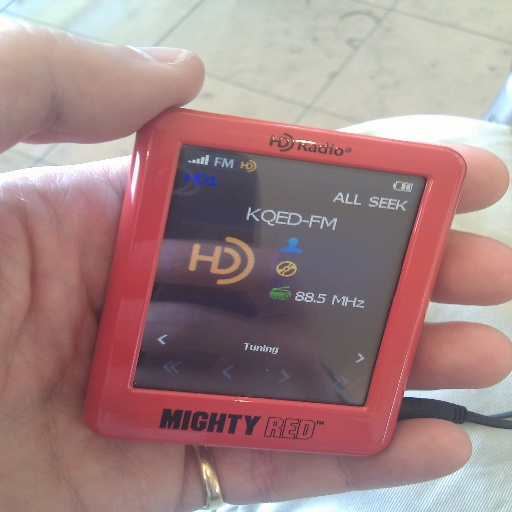hand: (0, 12, 511, 511)
